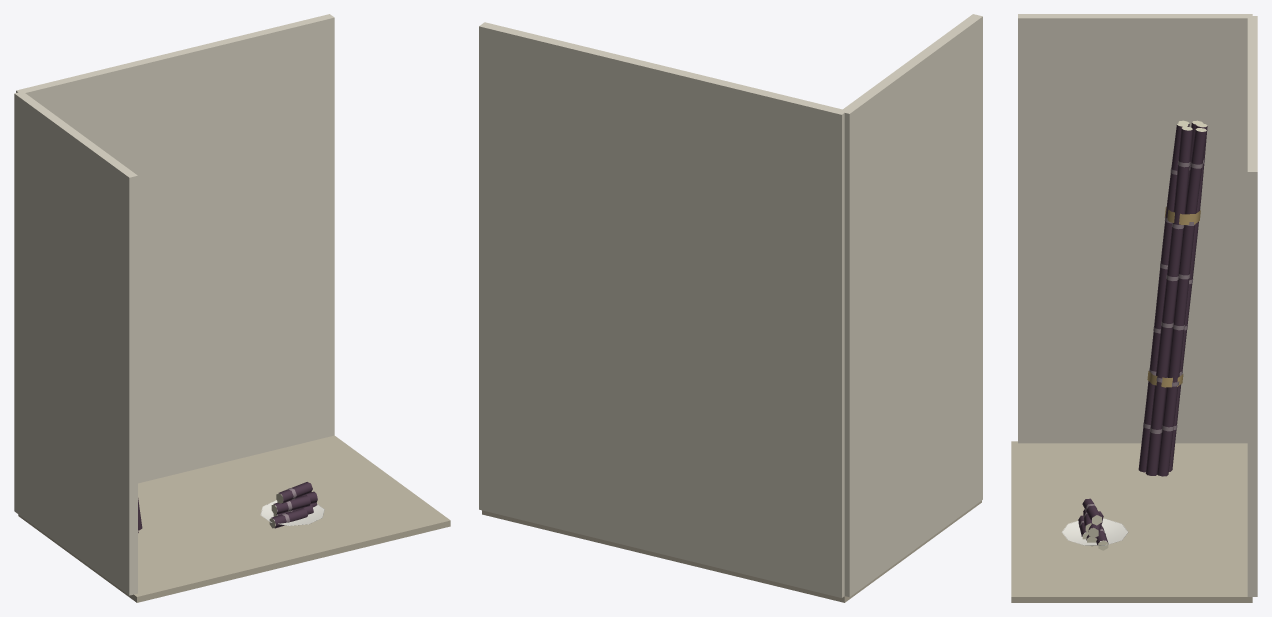
The model's file is BoMia_MiaChatKhuc.glb.
The picture shows the model from 3 angles, left to right: view 1: azimuth 30°, elevation 25°; view 2: azimuth 150°, elevation 25°; view 3: azimuth 270°, elevation 25°; orthographic projection. The views are drawn at different scales.
Parts seen in each view (by area): view 1: GocTuong_A, GocTuong_B, GocTuong_San; view 2: GocTuong_A, GocTuong_B, GocTuong_San; view 3: GocTuong_B, GocTuong_San, GocTuong_A, CayMia_1_Than, CayMia_6_Than, CayMia_2_Than, CayMia_5_Than, MiaChatKhuc_Dia, BoMia.
Boxes of the visible parts, x1,y1,x2,y2 form: GocTuong_A: (16,14,334,483); GocTuong_B: (14,92,137,595); GocTuong_San: (18,435,450,602); GocTuong_A: (479,22,846,597); GocTuong_B: (841,14,982,597); GocTuong_San: (482,500,981,602); GocTuong_B: (1018,14,1252,443); GocTuong_San: (1011,441,1252,602); GocTuong_A: (1247,16,1257,596); CayMia_1_Than: (1145,129,1192,475); CayMia_6_Than: (1157,130,1206,476); CayMia_2_Than: (1138,125,1188,472); CayMia_5_Than: (1169,125,1207,471); MiaChatKhuc_Dia: (1062,518,1128,545); BoMia: (1147,207,1200,387).
Bounding box in the file's own units: 1.12 × 1.42 × 0.735.
